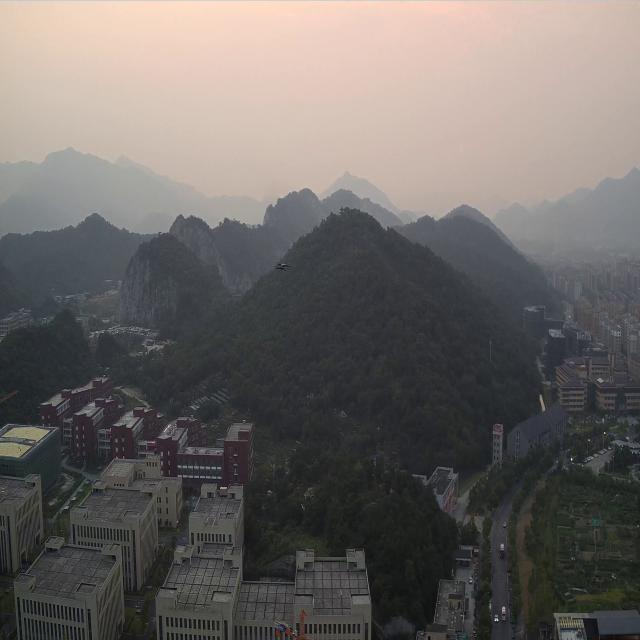UAV: (273, 259, 291, 271)
